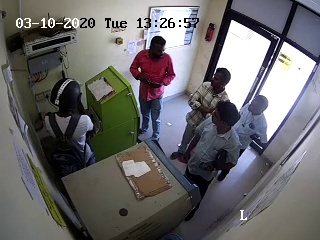helmet: (50, 75, 86, 116)
